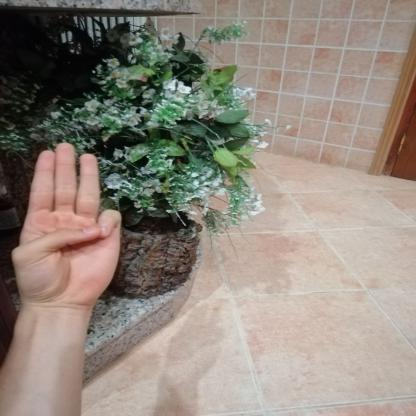THA: (3, 130, 138, 315)
